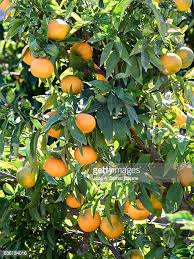orange: (40, 155, 70, 179), (76, 206, 102, 232), (73, 143, 99, 167), (71, 112, 96, 134), (158, 53, 182, 75), (30, 57, 54, 78), (60, 75, 85, 94), (63, 188, 87, 207)
